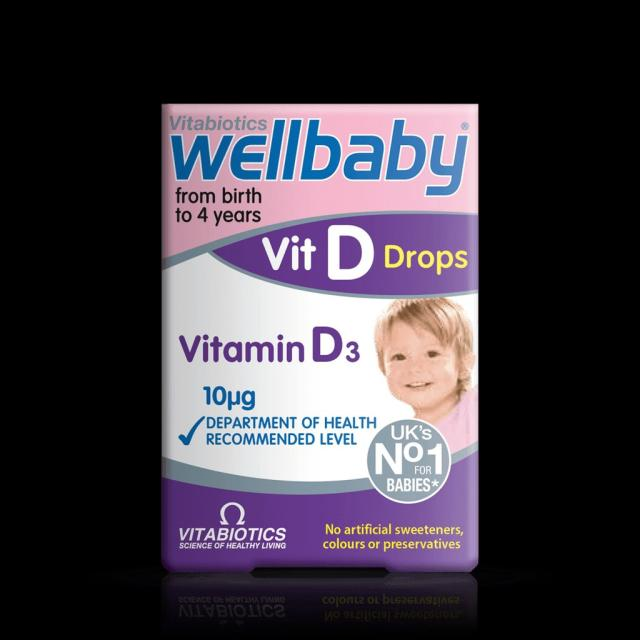mini-drop: (164, 106, 477, 574)
